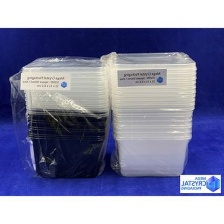plastic_box: (6, 45, 204, 183)
